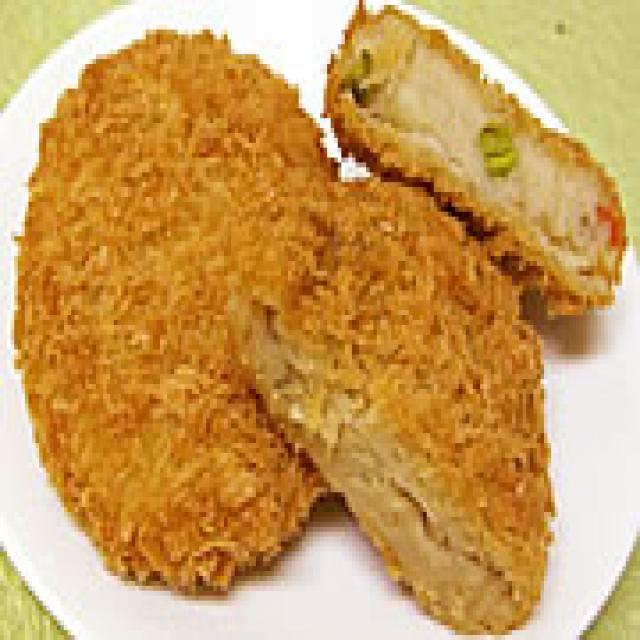炸货点心: (18, 0, 633, 620)
